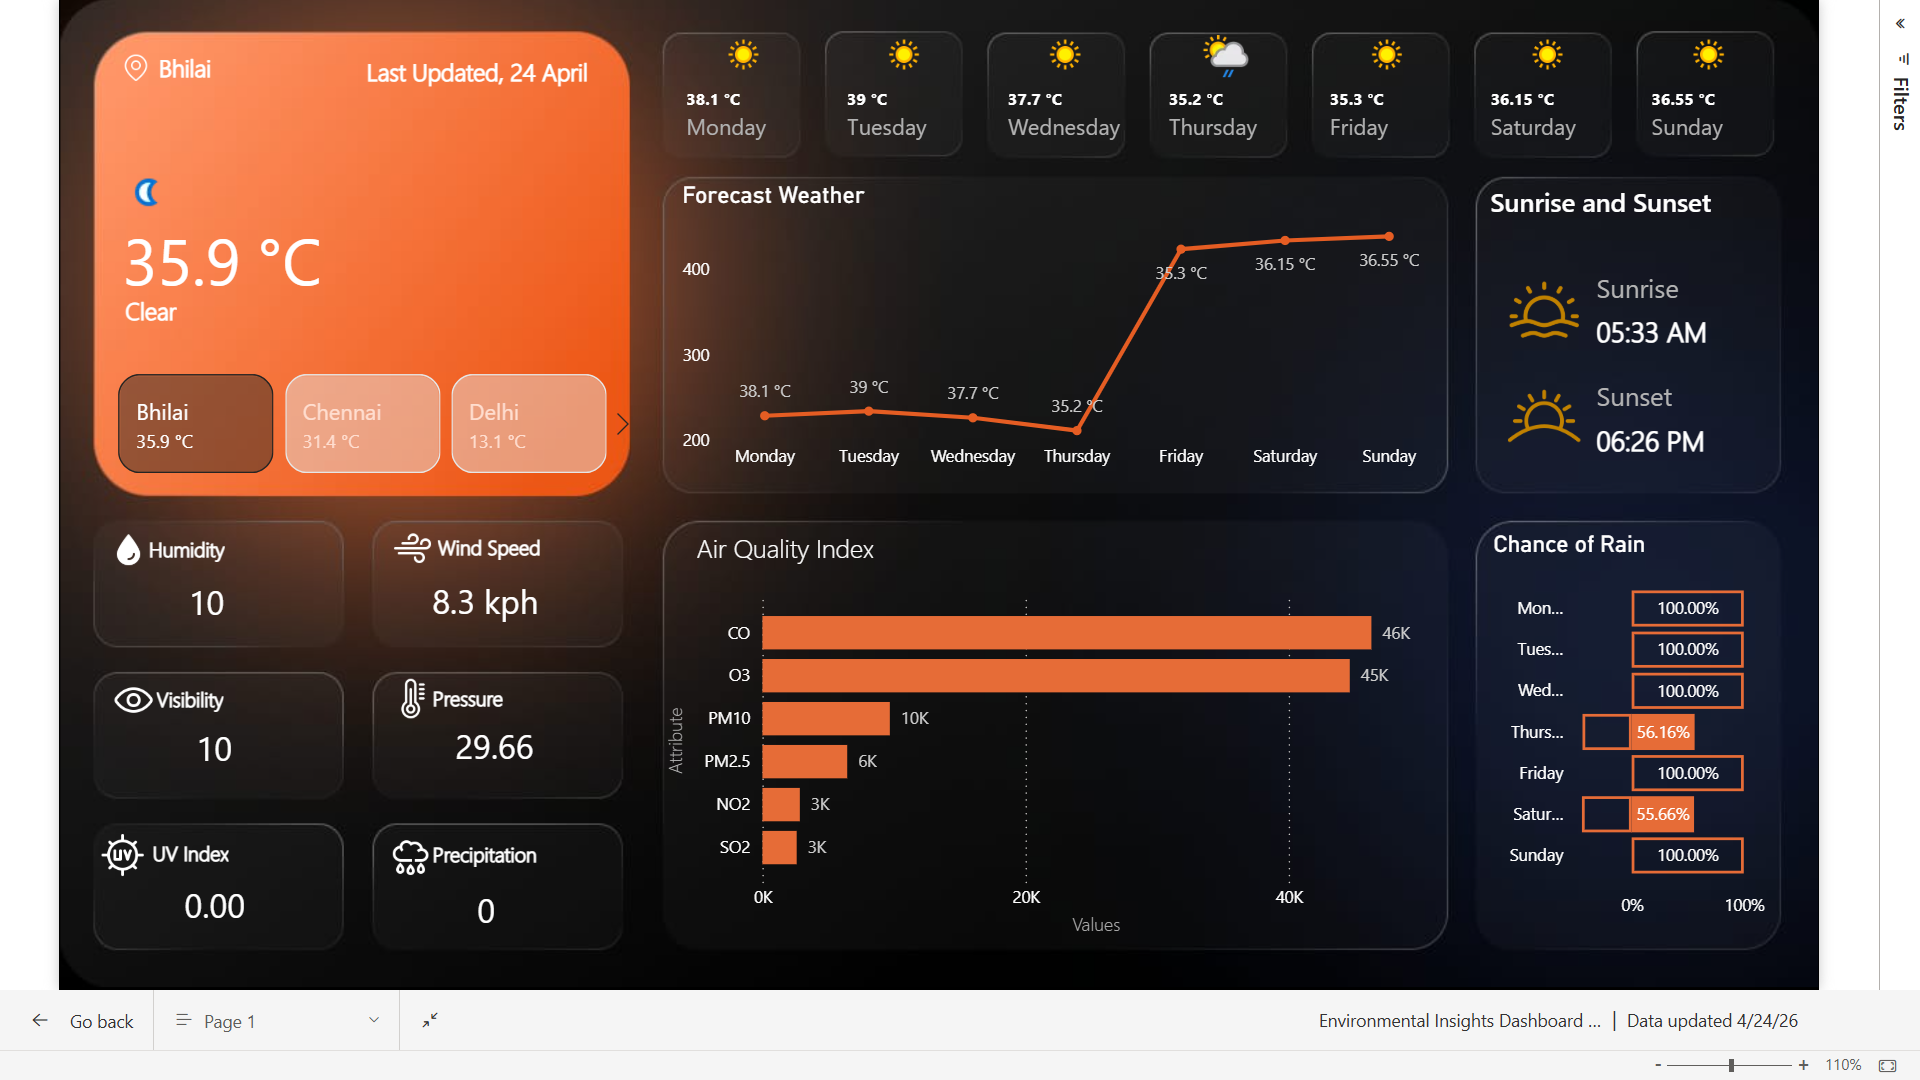

The dashboard page shown, as its layout file describes it:
{"tool":"powerbi","page":{"name":"Page 1","canvas":[1280,720],"ordinal":0},"visuals":[{"type":"advancedSlicerVisual","fields":{"Values":["Locations.location.name"],"Label":["_Measures.Curr_temp_C"]},"box":[17.8,267.6,407.5,82.3],"z":0},{"type":"shape","box":[46.7,153.7,175.6,65.9],"z":1000},{"type":"shape","box":[48,200.3,348.5,37],"z":2000},{"type":"shape","box":[222.3,37,161.9,28.8],"z":3000},{"type":"shape","box":[72.7,34.3,161.9,28.8],"z":4000},{"type":"image","box":[46.7,37,19.2,24.7],"z":5000},{"type":"cardVisual","fields":{"Data":["Min(Current.current.condition.icon)"]},"box":[11,65.9,108.4,111.1],"z":6000},{"type":"image","box":[238.8,494,37,28.8],"z":7000},{"type":"image","box":[28.8,605.1,34.3,32.9],"z":8000},{"type":"image","box":[242.9,382.8,28.8,31.6],"z":9000},{"type":"image","box":[38.4,385.6,24.7,28.8],"z":10000},{"type":"image","box":[230.5,607.9,49.4,31.6],"z":11000},{"type":"image","box":[35.7,492.6,37,32.9],"z":12000},{"type":"shape","box":[68.6,605.1,161.9,28.8],"z":13000},{"type":"shape","box":[271.7,606.5,161.9,28.8],"z":14000},{"type":"shape","box":[271.7,492.6,161.9,30.2],"z":15000},{"type":"shape","box":[71.4,494,161.9,28.8],"z":16000},{"type":"shape","box":[65.9,384.2,161.9,28.8],"z":17000},{"type":"shape","box":[275.8,382.8,161.9,28.8],"z":18000},{"type":"cardVisual","fields":{"Data":["Sum(Current.current.humidity)"]},"box":[51.4,407.2,111.7,58.8],"z":19000},{"type":"cardVisual","fields":{"Data":["Sum(Current.current.uv)"]},"box":[51.4,627.7,123.5,58.8],"z":20000},{"type":"cardVisual","fields":{"Data":["Sum(Current.current.vis_km)"]},"box":[61.7,513,102.9,61.7],"z":21000},{"type":"cardVisual","fields":{"Data":["Sum(Current.current.precip_in)"]},"box":[269,627.7,83.8,66.1],"z":22000},{"type":"cardVisual","fields":{"Data":["Sum(Current.current.pressure_in)"]},"box":[242.5,508.6,148.5,66.1],"z":23000},{"type":"cardVisual","fields":{"Data":["_Measures.Wind_Speed"]},"box":[224.9,398.3,172,75],"z":24000},{"type":"advancedSlicerVisual","fields":{"Values":["Forecast_Day.Day_Name"]},"box":[438.4,14,826.4,107.9],"z":25000},{"type":"lineChart","title":"Forecast Weather","fields":{"Y":["Sum(Forecast_Day.forecast.forecastday.day.avgtemp_c)"],"Category":["Forecast_Day.Day_Name"]},"box":[448.2,131.7,554.7,218.5],"z":26000},{"type":"shape","box":[1117.8,298.4,162.5,42],"z":27000},{"type":"shape","box":[1117.8,182.1,130.3,54.6],"z":28000},{"type":"shape","box":[1117.8,219.9,130.3,40.6],"z":29000},{"type":"shape","box":[1040.8,131.7,176.5,29.4],"z":30000},{"type":"shape","box":[1117.8,267.5,162.5,40.6],"z":31000},{"type":"image","box":[1038,200.3,84,50.4],"z":32000},{"type":"image","box":[1040.8,267.5,78.4,70],"z":33000},{"type":"hundredPercentStackedBarChart","title":"Chance of Rain","fields":{"Y":["Sum(Forecast_Day.forecast.forecastday.day.daily_chance_of_rain)","Current.Left_Value_Rain"],"Category":["Forecast_Day.Day_Name"]},"box":[1038,385.2,207.3,291.4],"z":34000},{"type":"shape","box":[463.3,383.6,176.1,30.2],"z":35000},{"type":"clusteredBarChart","fields":{"Y":["Sum(Weather_Report_1.Value)"],"Category":["Weather_Report_1.Pollutant_Name"]},"box":[438.6,422.9,574.3,262.9],"z":36000}]}

Visuals, with their boxes on the page's 1280x720 design canvas (x1, y1, x2, y2). These are canvas units, not pixel positions in the 1920x1080 screenshot, which may show the page scaled, cropped or inside an application window:
advancedSlicerVisual - Locations.location.name x _Measures.Curr_temp_C: (18,268,425,350)
shape: (47,154,222,220)
shape: (48,200,396,237)
shape: (222,37,384,66)
shape: (73,34,235,63)
image: (47,37,66,62)
cardVisual - Min(Current.current.condition.icon): (11,66,119,177)
image: (239,494,276,523)
image: (29,605,63,638)
image: (243,383,272,414)
image: (38,386,63,414)
image: (230,608,280,640)
image: (36,493,73,526)
shape: (69,605,230,634)
shape: (272,606,434,635)
shape: (272,493,434,523)
shape: (71,494,233,523)
shape: (66,384,228,413)
shape: (276,383,438,412)
cardVisual - Sum(Current.current.humidity): (51,407,163,466)
cardVisual - Sum(Current.current.uv): (51,628,175,686)
cardVisual - Sum(Current.current.vis_km): (62,513,165,575)
cardVisual - Sum(Current.current.precip_in): (269,628,353,694)
cardVisual - Sum(Current.current.pressure_in): (242,509,391,575)
cardVisual - _Measures.Wind_Speed: (225,398,397,473)
advancedSlicerVisual - Forecast_Day.Day_Name: (438,14,1265,122)
"Forecast Weather" lineChart: (448,132,1003,350)
shape: (1118,298,1280,340)
shape: (1118,182,1248,237)
shape: (1118,220,1248,260)
shape: (1041,132,1217,161)
shape: (1118,268,1280,308)
image: (1038,200,1122,251)
image: (1041,268,1119,338)
"Chance of Rain" hundredPercentStackedBarChart: (1038,385,1245,677)
shape: (463,384,639,414)
clusteredBarChart - Sum(Weather_Report_1.Value) x Weather_Report_1.Pollutant_Name: (439,423,1013,686)
